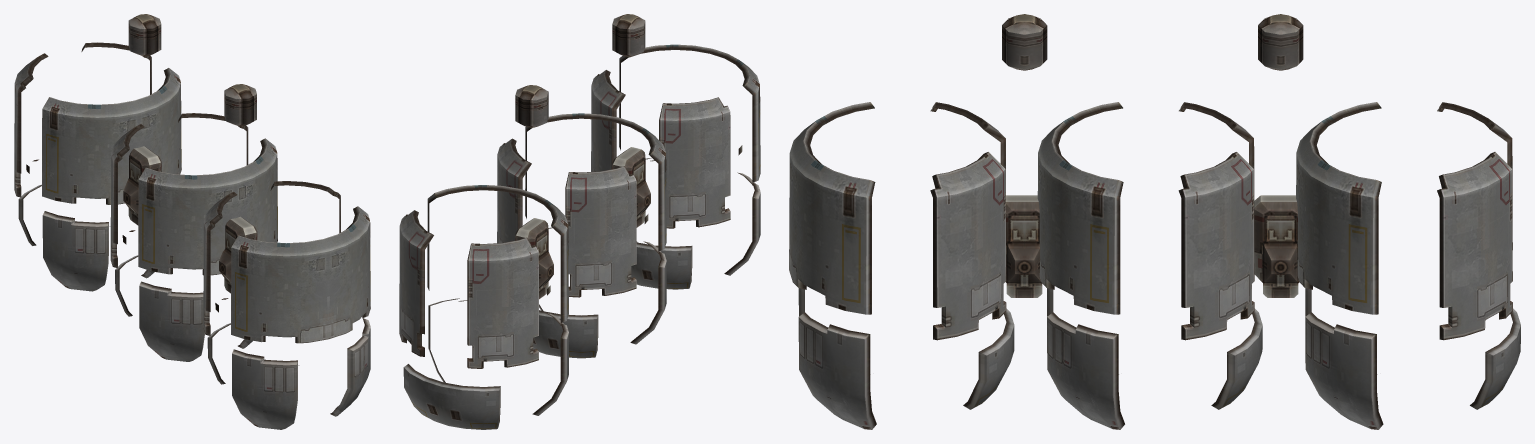
File: prop_static_tr1_container_01_06.glb
3 renders of one model, left to right at view 1: azimuth 30°, elevation 25°; view 2: azimuth 150°, elevation 25°; view 3: azimuth 270°, elevation 25°, orthographic. The views are drawn at different scales.
Visible parts, largest first — view 1: tr1_container_01_06_mat01b_LOD0, tr1_container_01_06_mat01a_LOD0; view 2: tr1_container_01_06_mat01b_LOD0, tr1_container_01_06_mat01a_LOD0; view 3: tr1_container_01_06_mat01b_LOD0, tr1_container_01_06_mat01a_LOD0.
Boxes of the visible parts, x1,y1,x2,y2 form: tr1_container_01_06_mat01b_LOD0: (110, 113, 370, 429); tr1_container_01_06_mat01a_LOD0: (14, 14, 257, 293); tr1_container_01_06_mat01b_LOD0: (497, 44, 760, 358); tr1_container_01_06_mat01a_LOD0: (399, 14, 650, 429); tr1_container_01_06_mat01b_LOD0: (789, 102, 1262, 429); tr1_container_01_06_mat01a_LOD0: (1002, 14, 1520, 429).
Size of what is drawn, in the model's own units: 2.61 by 5.19 by 8.98.
2 materials, 2 textured.
